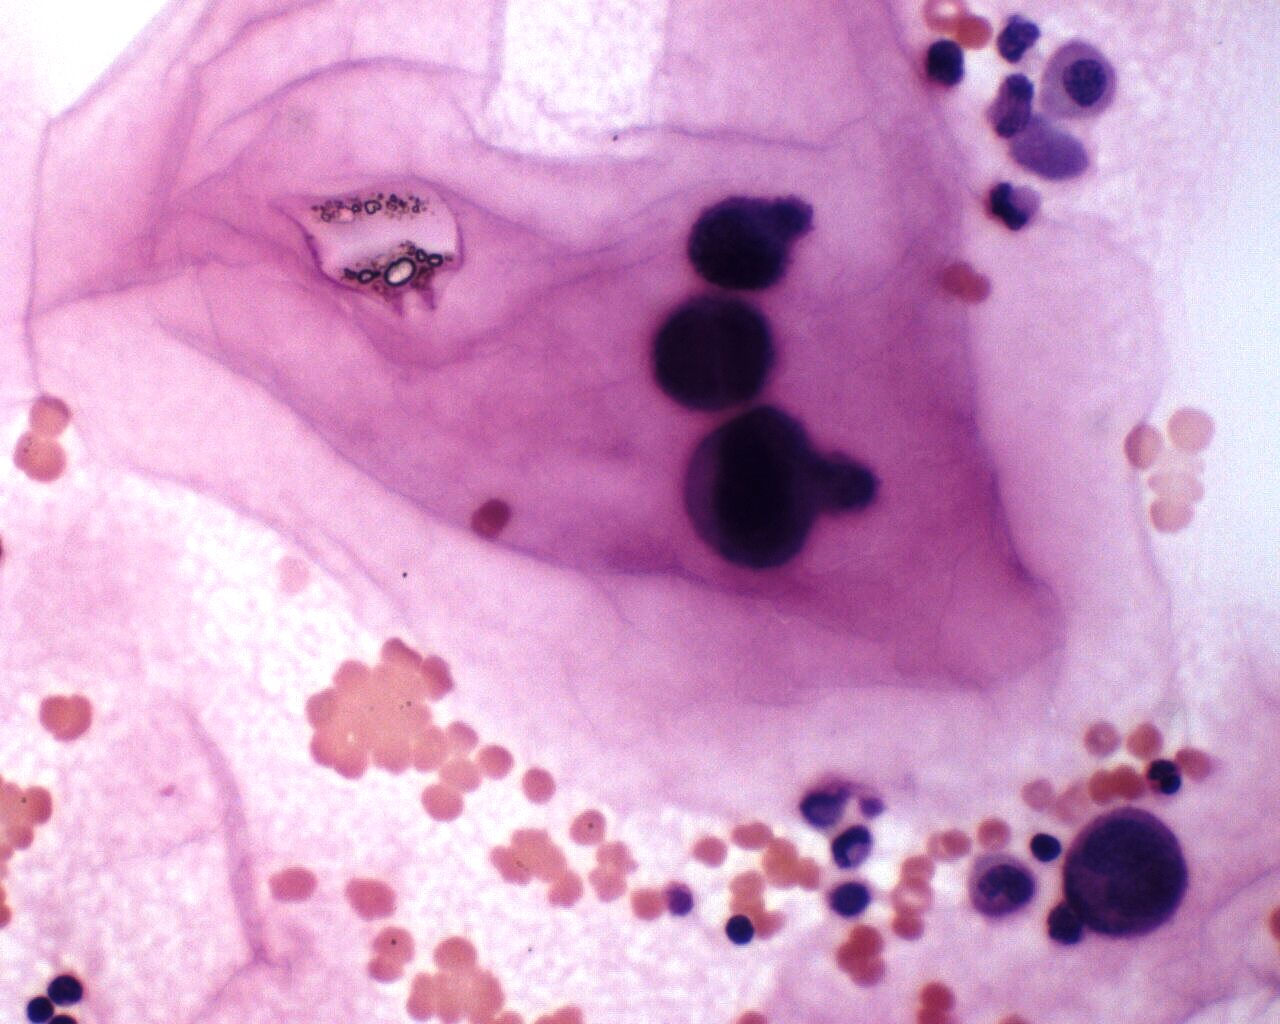ab: (678, 402, 829, 577), (1048, 807, 1198, 949), (684, 188, 796, 292)
lymph: (1022, 829, 1070, 871), (723, 913, 766, 949)
meso: (1035, 34, 1128, 126)
